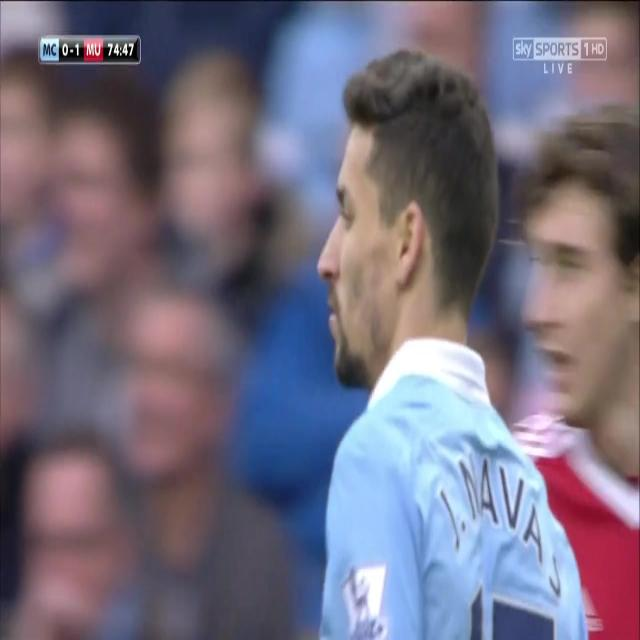Player: (315, 43, 593, 640), (504, 94, 640, 636)
